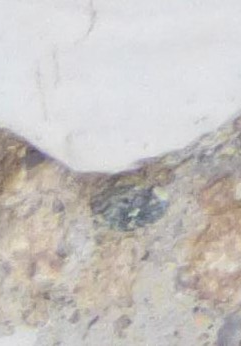Spalling: (1, 109, 241, 346)
